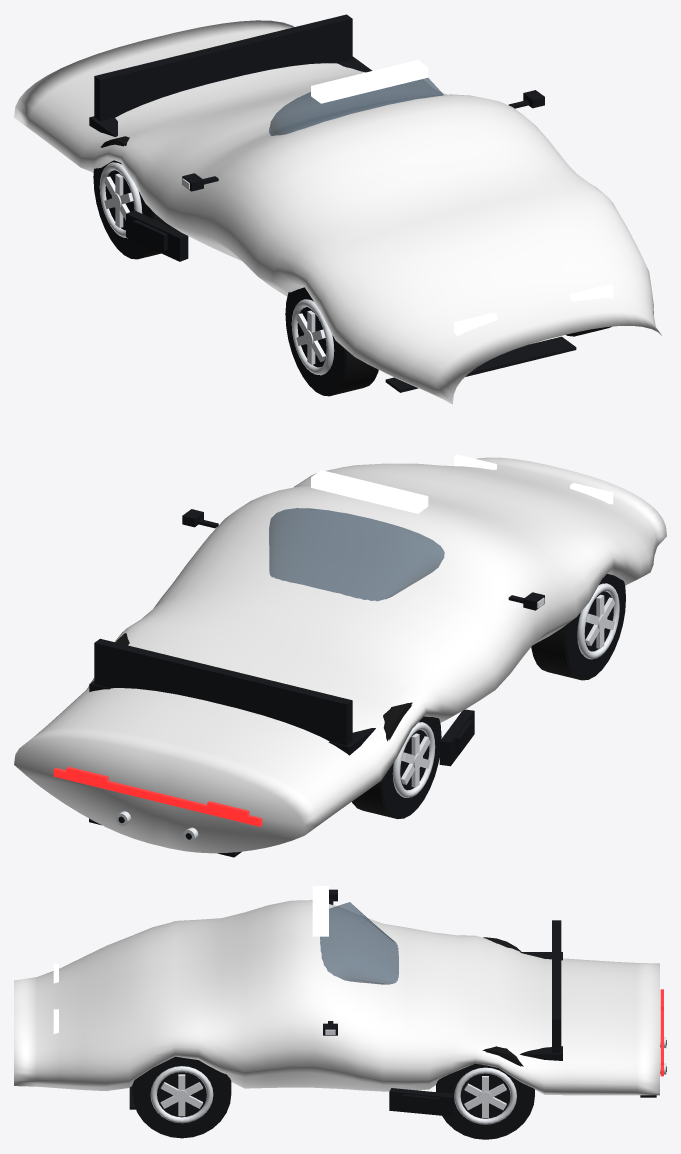
Rendered from shovel-mastodon.glb.
3 renders of one model, top to bottom at view 1: azimuth 30°, elevation 25°; view 2: azimuth 150°, elevation 25°; view 3: azimuth 270°, elevation 25°, orthographic. The views are drawn at different scales.
Parts seen in each view (by area): view 1: body, chassis, wheel-front-left, glass, wheel-back-left; view 2: body, chassis, glass, wheel-front-left, wheel-back-left; view 3: body, wheel-front-right, wheel-back-right, chassis, glass.
Boxes of the visible parts, x1,y1,x2,y2 form: body: (14,20,661,404); chassis: (89,14,613,392); wheel-front-left: (285,287,378,396); glass: (269,78,443,135); wheel-back-left: (93,136,175,259); body: (14,457,666,853); chassis: (53,454,613,857); glass: (269,508,444,601); wheel-front-left: (531,574,625,680); wheel-back-left: (352,702,441,819); body: (14,900,659,1095); wheel-front-right: (132,1056,231,1138); wheel-back-right: (436,1046,534,1139); chassis: (53,886,666,1116); glass: (320,902,398,984).
Size of the model in its own units: 2.85 by 1.67 by 5.61.
